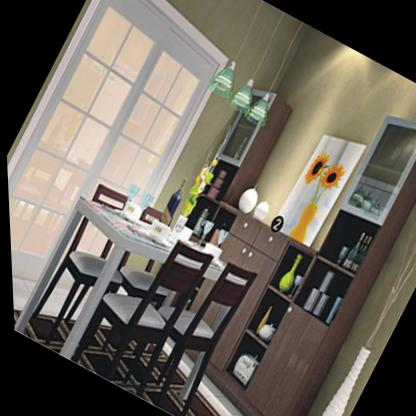Cupboard: (233, 115, 416, 416), (194, 82, 296, 205)
Dining Table: (6, 177, 264, 416)
Window: (0, 0, 255, 325)
